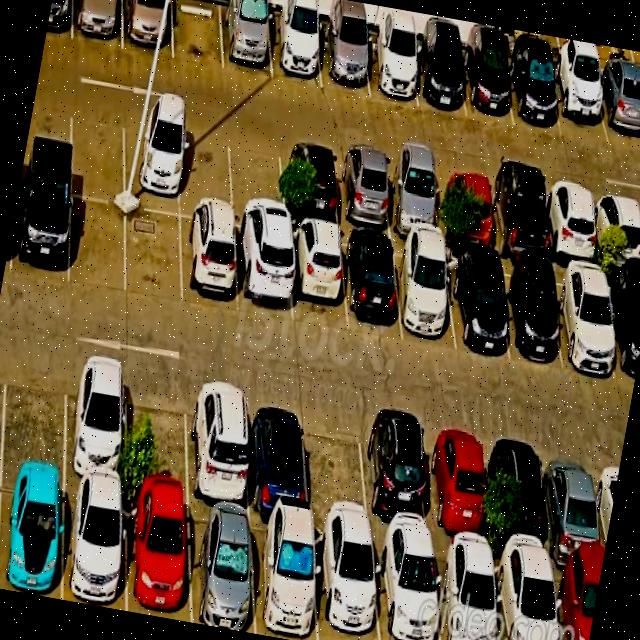empty: (304, 401, 369, 532), (1, 346, 66, 475), (127, 366, 189, 500), (228, 131, 284, 235), (69, 196, 125, 294), (70, 102, 124, 203), (179, 123, 233, 224), (126, 207, 181, 306), (172, 0, 223, 69)
occupied: (360, 411, 431, 543), (186, 503, 255, 633), (124, 492, 190, 622), (423, 419, 487, 553), (250, 514, 317, 640), (0, 470, 64, 599), (62, 480, 125, 611), (64, 354, 125, 488), (188, 378, 249, 511), (542, 439, 604, 569), (246, 389, 308, 519), (492, 429, 551, 561), (313, 524, 379, 640), (551, 264, 617, 376), (444, 252, 509, 360), (372, 537, 440, 640), (494, 260, 561, 364), (392, 241, 455, 350), (341, 232, 402, 337), (433, 544, 499, 640), (288, 223, 346, 331), (11, 181, 71, 285), (123, 112, 179, 215), (492, 554, 558, 640), (180, 217, 238, 313), (486, 174, 548, 262), (234, 229, 292, 323), (280, 141, 339, 227), (435, 166, 494, 251), (382, 156, 441, 240), (548, 63, 608, 144), (334, 149, 391, 233), (543, 182, 599, 265), (506, 52, 561, 135), (460, 45, 513, 125), (410, 41, 466, 116), (267, 11, 321, 87), (591, 189, 640, 272), (220, 1, 272, 79), (604, 272, 640, 384), (363, 32, 417, 106), (551, 562, 601, 640), (592, 70, 640, 150), (318, 24, 369, 95), (122, 0, 173, 58), (72, 0, 122, 48)
